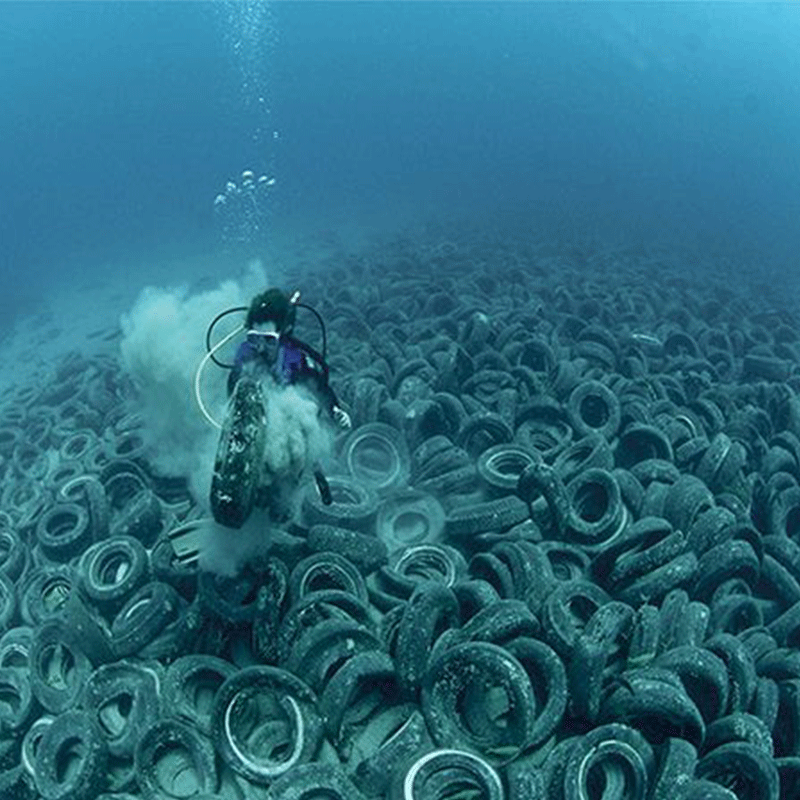litter: (410, 632, 543, 765), (197, 663, 335, 779), (422, 634, 534, 758), (530, 551, 637, 645), (571, 605, 659, 713), (593, 399, 682, 475), (77, 536, 161, 605), (389, 536, 474, 602), (559, 375, 635, 447), (561, 470, 628, 536), (470, 442, 540, 493), (476, 442, 542, 496)
